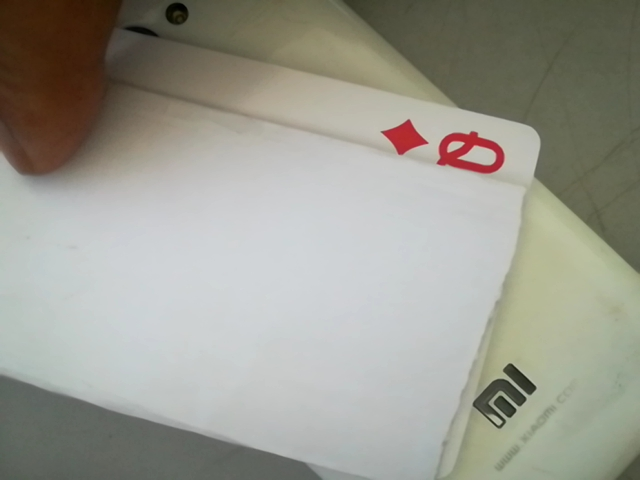fk q: (386, 116, 525, 179)
